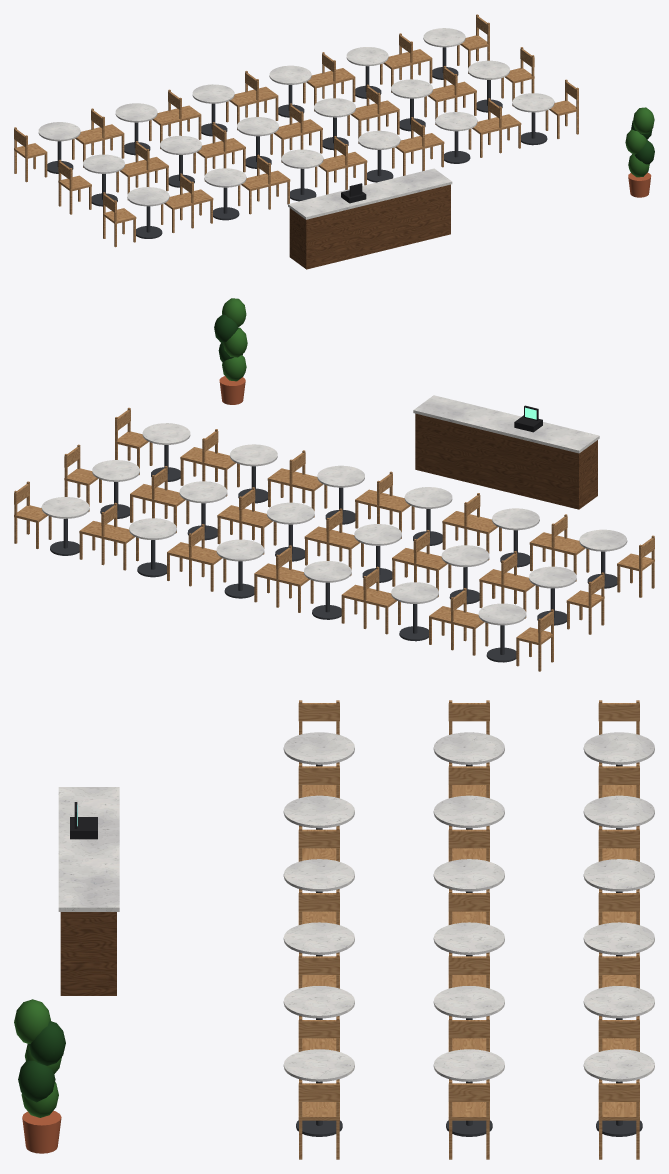
Rendered from i_hanok_cafe.gltf.
3 renders of one model, top to bottom at view 1: azimuth 30°, elevation 25°; view 2: azimuth 150°, elevation 25°; view 3: azimuth 270°, elevation 25°, orthographic. The views are drawn at different scales.
Visible parts, largest first — view 1: I_hanok_cafe; view 2: I_hanok_cafe; view 3: I_hanok_cafe.
Boxes of the visible parts, x1,y1,x2,y2 form: I_hanok_cafe: (14,14,654,269); I_hanok_cafe: (14,298,654,671); I_hanok_cafe: (14,700,654,1159).
Size of the model in its own units: 9.64 by 1.74 by 6.84.
Materials: 10 (3 with a texture image).
